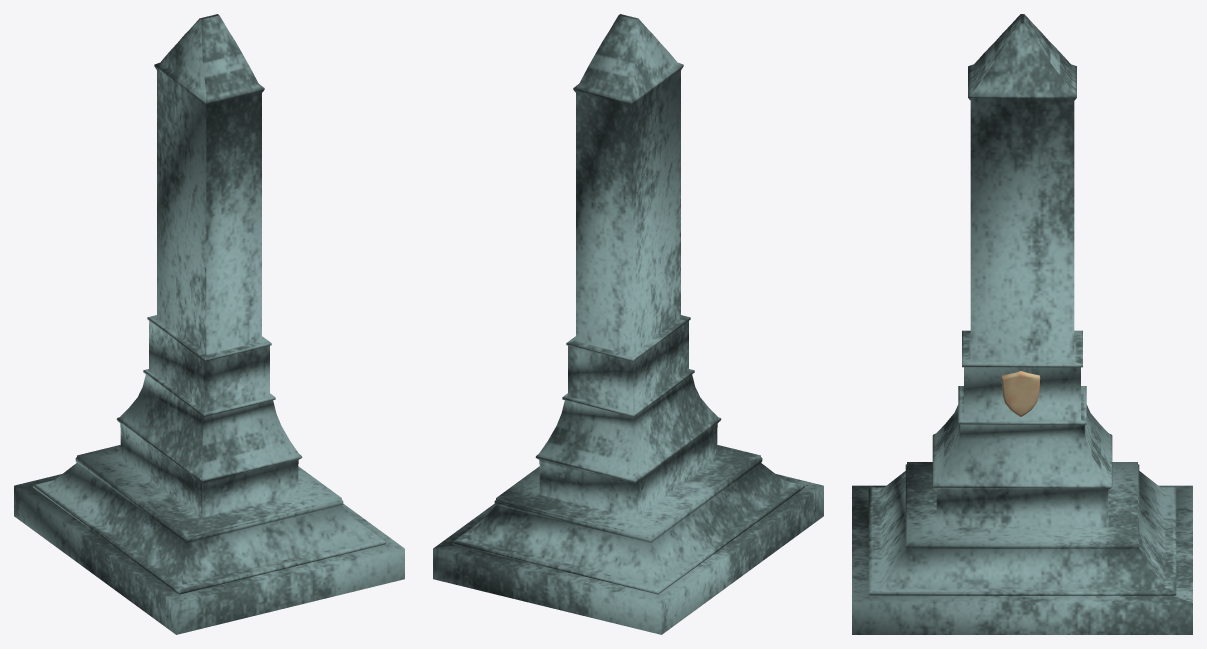
The model's file is Monumento.fbx.
The picture shows the model from 3 angles, left to right: view 1: azimuth 30°, elevation 25°; view 2: azimuth 150°, elevation 25°; view 3: azimuth 270°, elevation 25°; orthographic projection. The views are drawn at different scales.
Parts seen in each view (by area): view 1: Cube; view 2: Cube; view 3: Cube.
Boxes of the visible parts, x1=… form: Cube: x1=14, y1=14, x2=404, y2=634; Cube: x1=433, y1=14, x2=823, y2=634; Cube: x1=852, y1=14, x2=1192, y2=634.
Bounding box in the file's own units: 114 × 254 × 141.
